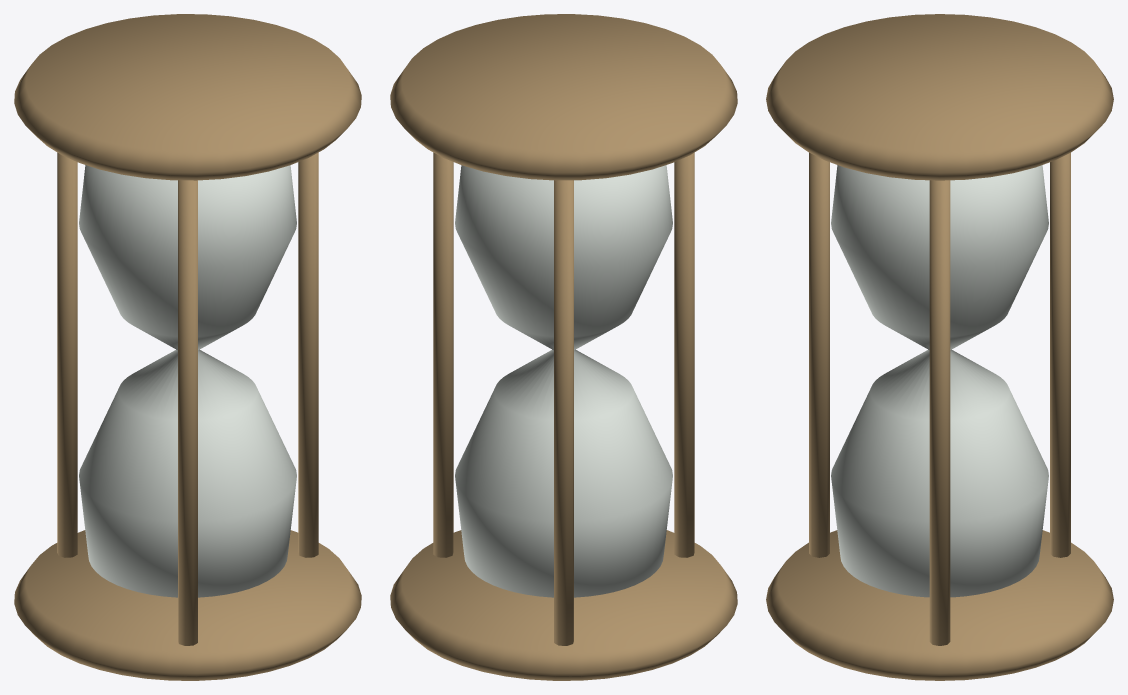
Rendered from hourglass.glb.
3 views of the same model, side by side, from view 1: azimuth 30°, elevation 25°; view 2: azimuth 150°, elevation 25°; view 3: azimuth 270°, elevation 25° (orthographic).
Parts seen in each view (by area): view 1: hourglass__body, hourglass__glass; view 2: hourglass__body, hourglass__glass; view 3: hourglass__body, hourglass__glass.
Part boxes in pixels (<box>): hourglass__body: <box>14,14,361,680</box>; hourglass__glass: <box>79,165,296,597</box>; hourglass__body: <box>390,14,737,680</box>; hourglass__glass: <box>455,165,672,597</box>; hourglass__body: <box>766,14,1113,680</box>; hourglass__glass: <box>831,165,1048,597</box>.
Size of the model in its own units: 0.15 by 0.252 by 0.15.
